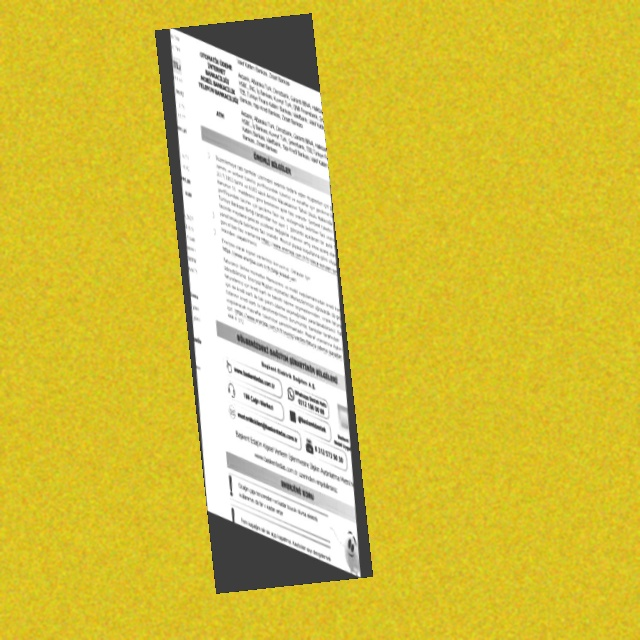electricity-bill: (155, 13, 373, 594)
